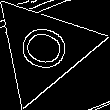O_E: (12, 20, 76, 78)
